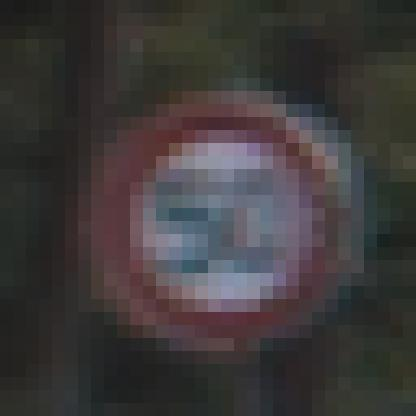Speed Limit 50: (106, 109, 342, 342)
